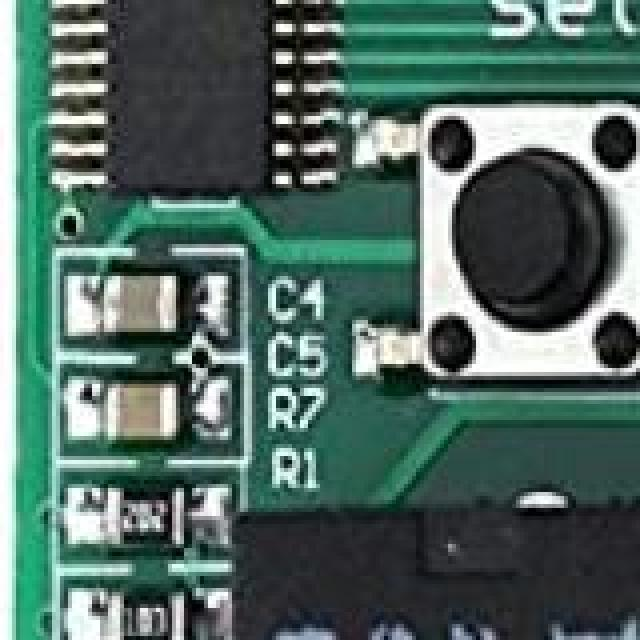IC: (80, 0, 312, 212)
capacitor: (76, 264, 190, 344), (88, 364, 194, 446)
relay: (240, 516, 640, 640)
resistor: (104, 580, 192, 640), (100, 480, 190, 536)
switch: (396, 84, 640, 388)
